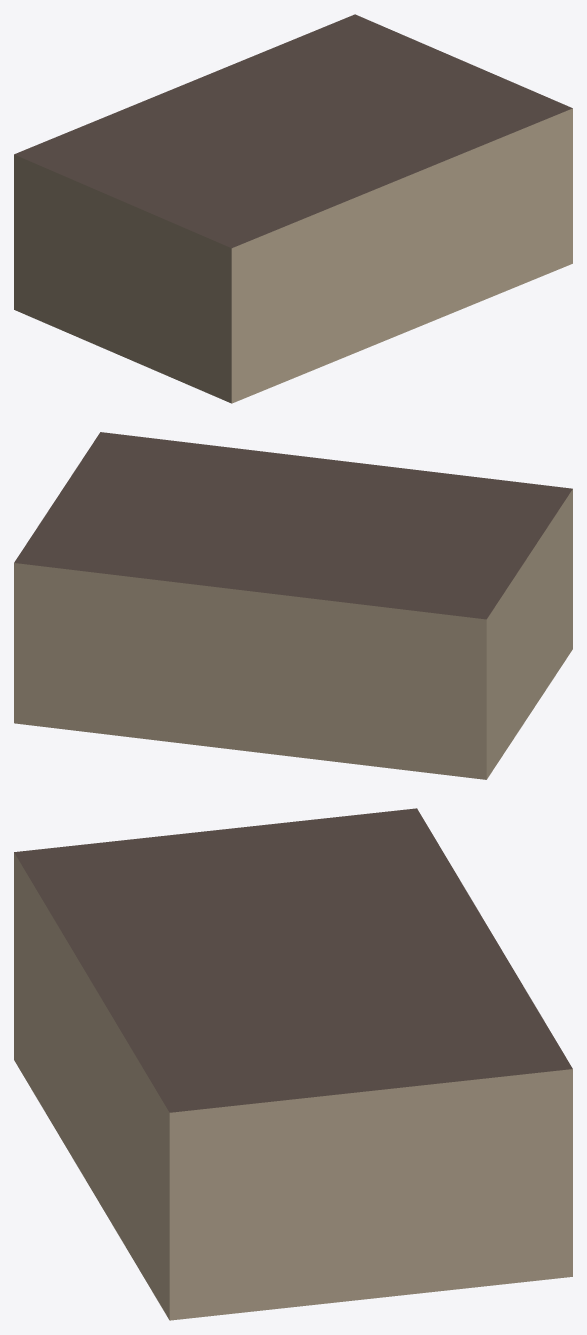
3 views of the same model, one above another, from view 1: azimuth 30°, elevation 25°; view 2: azimuth 150°, elevation 25°; view 3: azimuth 270°, elevation 25° (orthographic). The views are drawn at different scales.
Visible parts, largest first — view 1: HP-w293513356; view 2: HP-w293513356; view 3: HP-w293513356.
Part boxes in pixels (left/top/right/bottom): HP-w293513356: left=14, top=14, right=572, bottom=403; HP-w293513356: left=14, top=432, right=572, bottom=779; HP-w293513356: left=14, top=808, right=572, bottom=1320.
Size of the model in its own units: 28.28 by 9 by 21.94.
